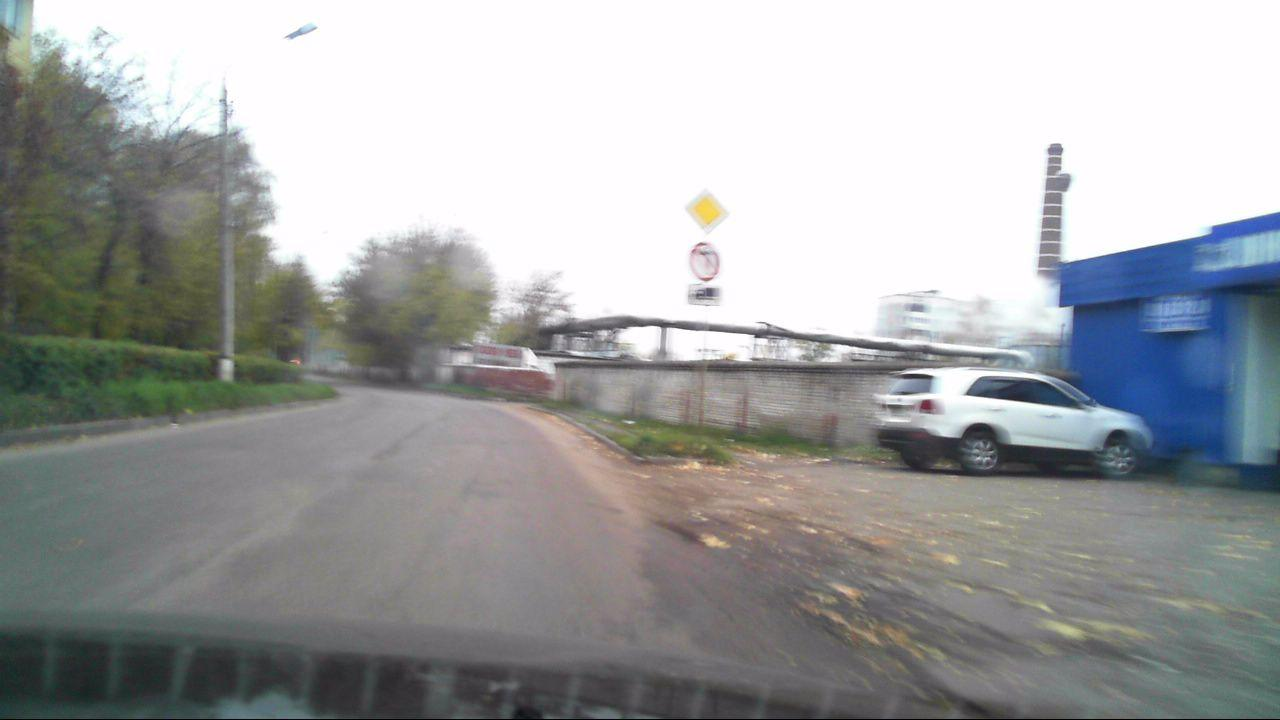2_1: (683, 187, 728, 230)
3_18_2: (691, 241, 723, 281)
8_4_1: (687, 284, 722, 305)
